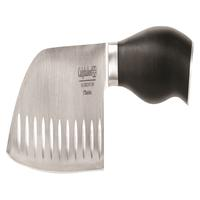knife: (2, 23, 186, 178)
